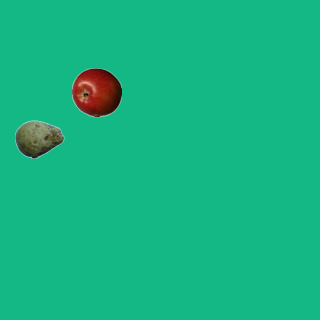Apple Braeburn: (71, 67, 121, 117)
Pear Stone: (14, 114, 64, 164)
